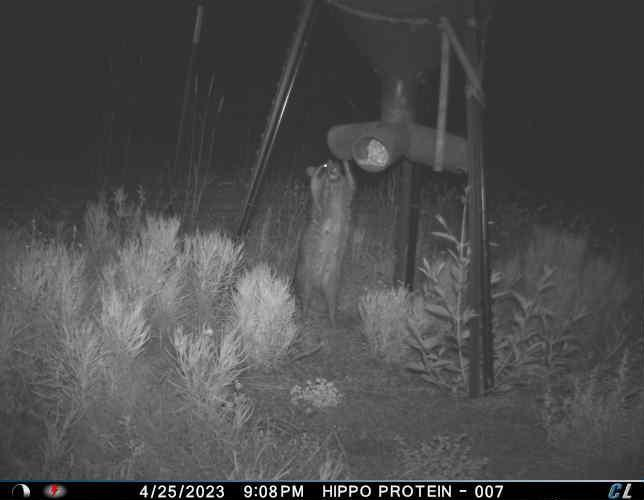Raccoon: (291, 154, 359, 334)
